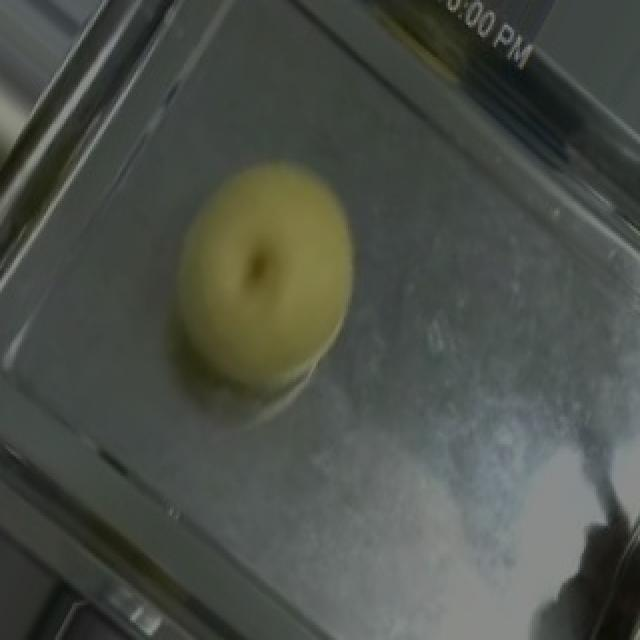Fruit: (124, 119, 406, 432)
